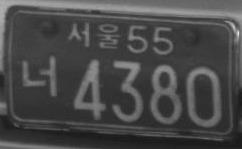0: (184, 64, 223, 129)
3: (109, 58, 145, 124)
4: (72, 58, 107, 122)
5: (150, 25, 175, 57), (125, 23, 149, 54)
8: (148, 62, 183, 126)
너: (19, 53, 58, 98)
서울_O: (66, 20, 121, 51)
